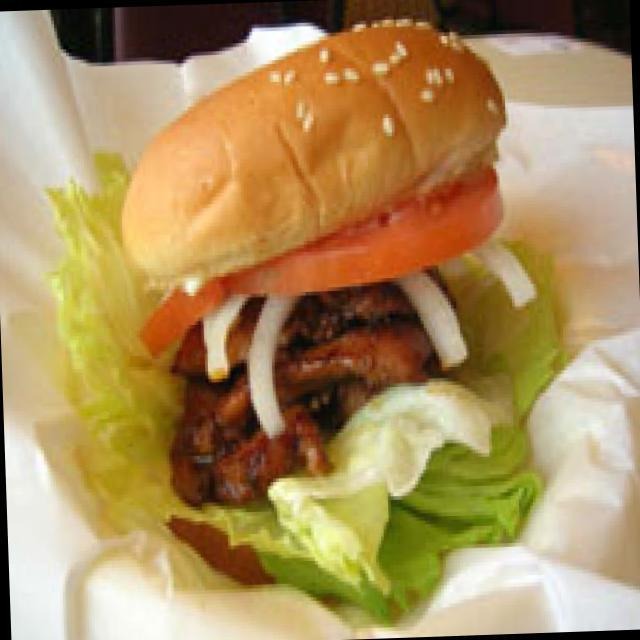Hamburger: (89, 1, 566, 628)
